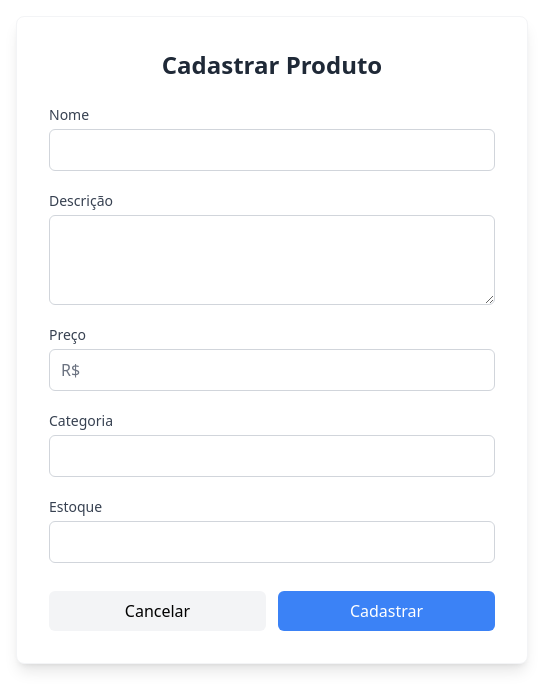
ProductForm › não aceita preço zerado e estoque negativo
Type "Fone de Ouvido" into the field labelled "Nome".
click(272, 150); type("Fone de Ouvido")  # box [49,129,495,171]
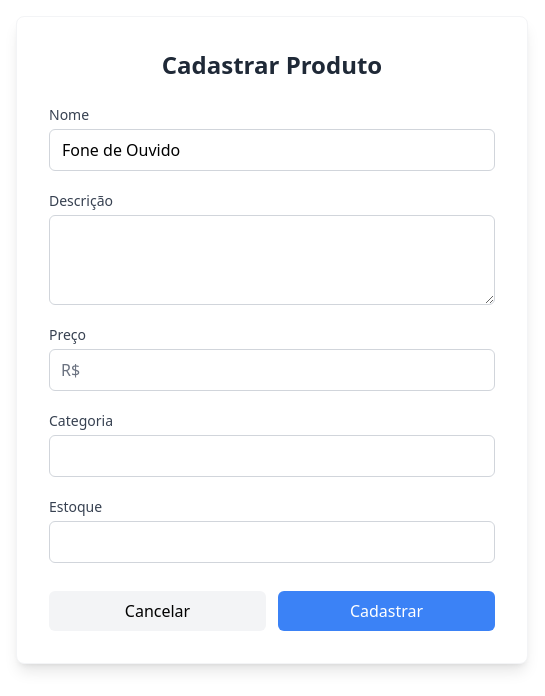
Type "0" into the number field labelled "Preço".
click(272, 370); type("0")  # box [49,349,495,391]
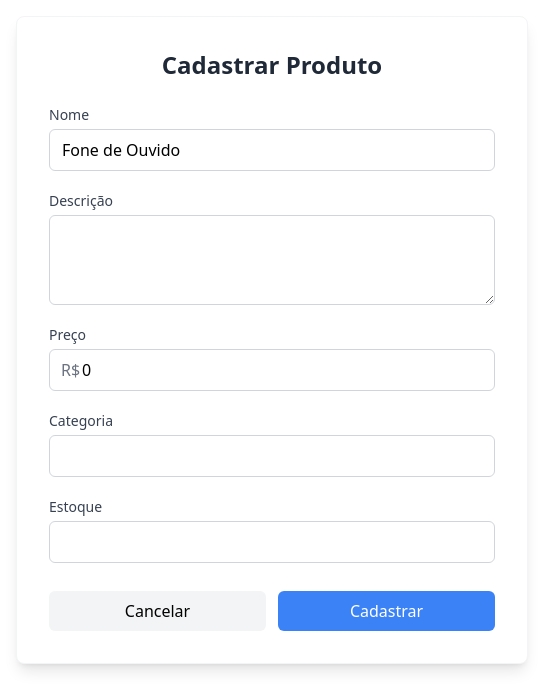
Type "Periféricos" into the field labelled "Categoria".
click(272, 456); type("Periféricos")  # box [49,435,495,477]
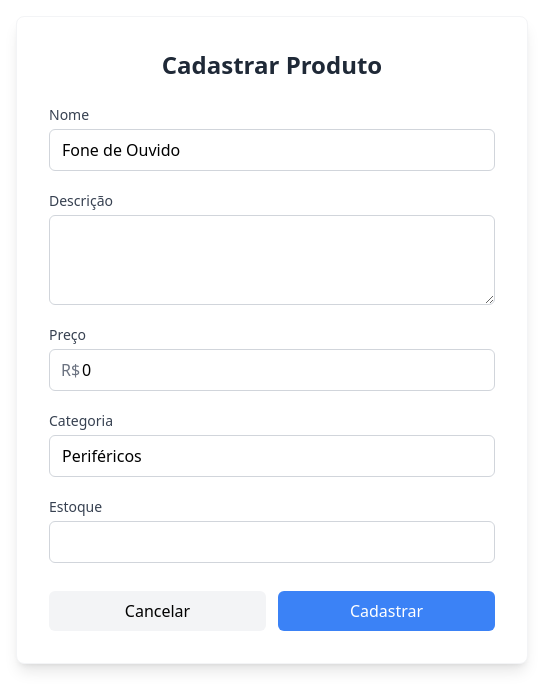
Type "-1" into the number field labelled "Estoque".
click(272, 542); type("-1")  # box [49,521,495,563]
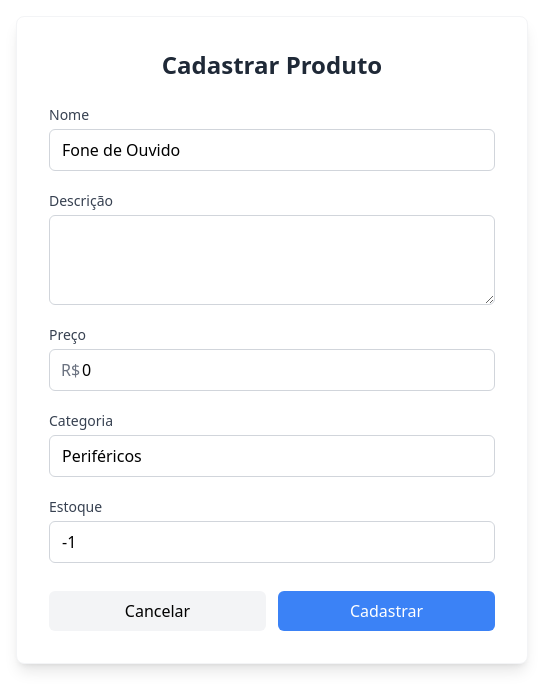
Click the button "Cadastrar".
click(386, 611)  # box [278,591,495,631]
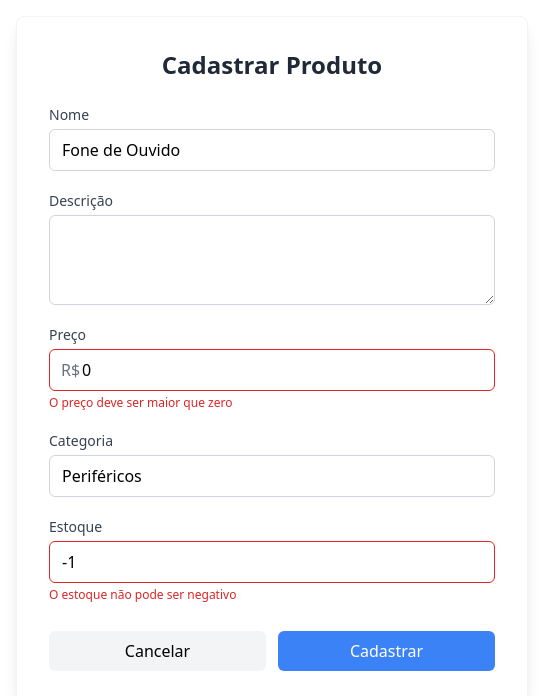
Check: the text "O preço deve ser maior que zero" is shown, box [49,394,232,411]
Check: the text "O estoque não pode ser negativo" is shown, box [49,586,236,603]
